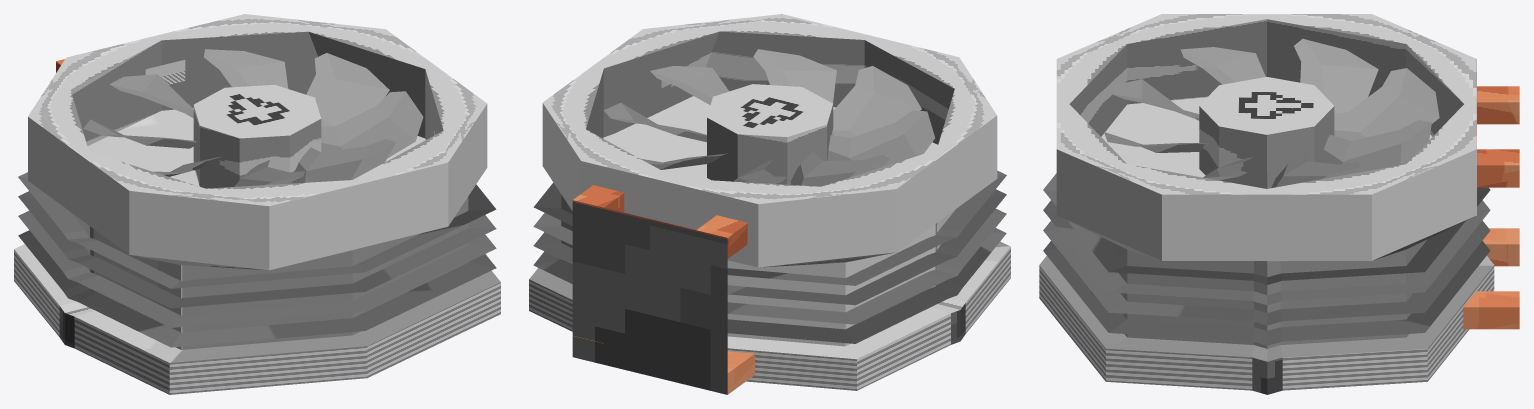
Rendered from Cooler_Lado.fbx.
3 views of the same model, side by side, from view 1: azimuth 30°, elevation 25°; view 2: azimuth 150°, elevation 25°; view 3: azimuth 270°, elevation 25° (orthographic). The views are drawn at different scales.
Visible parts, largest first — view 1: Cooler.Lado; view 2: Cooler.Lado; view 3: Cooler.Lado.
Boxes of the visible parts, <box> form: Cooler.Lado: <box>14,14,500,394</box>; Cooler.Lado: <box>529,14,1010,394</box>; Cooler.Lado: <box>1039,14,1519,394</box>.
Bounding box in the file's own units: 556 × 258 × 578.
